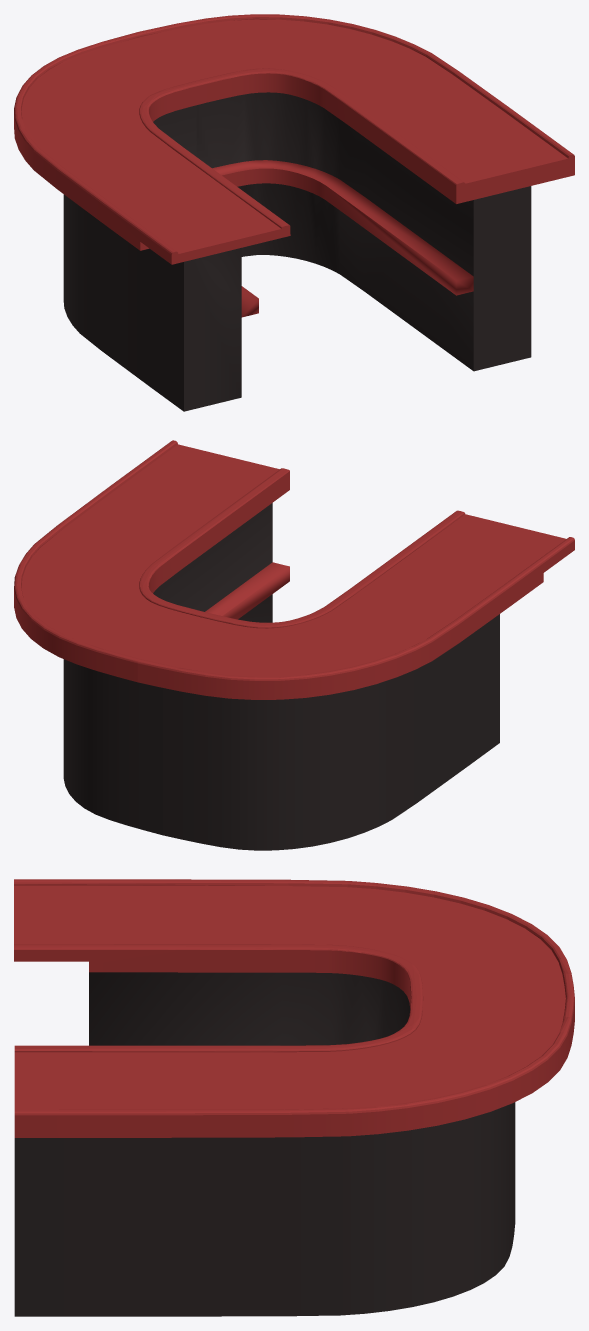
File: 189330cf-99a5-4f99-8eac-00056e8b6ad0.glb
The picture shows the model from 3 angles, top to bottom: view 1: azimuth 30°, elevation 25°; view 2: azimuth 150°, elevation 25°; view 3: azimuth 270°, elevation 25°; orthographic projection. The views are drawn at different scales.
Parts seen in each view (by area): view 1: RoundBar.008; view 2: RoundBar.008; view 3: RoundBar.008.
Boxes of the visible parts, <box> form: RoundBar.008: <box>14,14,574,411</box>; RoundBar.008: <box>14,440,574,850</box>; RoundBar.008: <box>14,879,574,1316</box>.
Size of what is drawn, in the model's own units: 2.42 by 1.1 by 2.45.
Materials: 1 (1 with a texture image).
